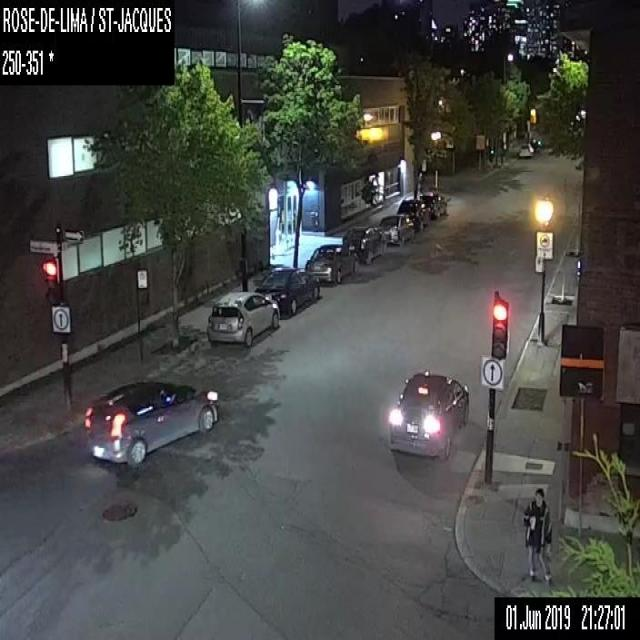construction: (476, 134, 483, 170)
pedestrian: (522, 487, 554, 585)
vehicle: (83, 377, 220, 467), (387, 369, 471, 460), (206, 288, 280, 349), (255, 266, 320, 314), (306, 242, 359, 282), (342, 222, 386, 262), (378, 213, 417, 244), (396, 196, 428, 227), (418, 191, 451, 215), (516, 139, 535, 159)
